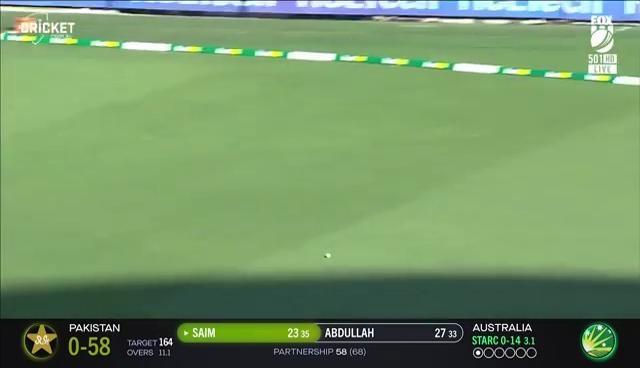ball: (322, 247, 341, 265)
